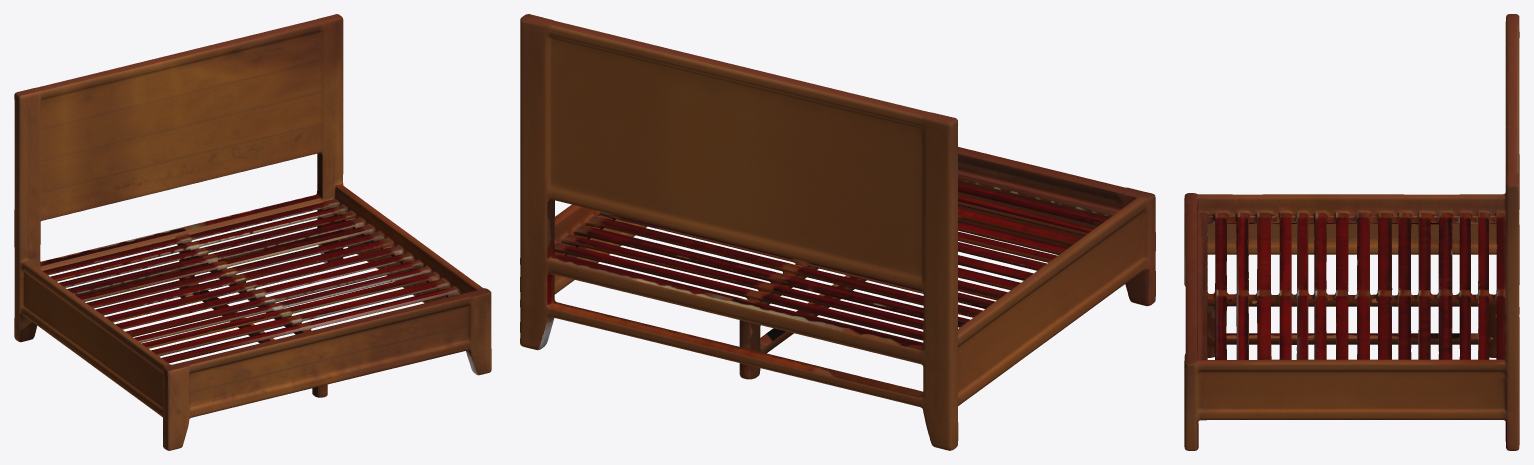
Rendered from bed__bed#3.glb.
3 renders of one model, left to right at view 1: azimuth 30°, elevation 25°; view 2: azimuth 150°, elevation 25°; view 3: azimuth 270°, elevation 25°, orthographic. The views are drawn at different scales.
Visible parts, largest first — view 1: tmp1ifod9ps.ply; view 2: tmp1ifod9ps.ply; view 3: tmp1ifod9ps.ply.
Part boxes in pixels (bbox=[...]): tmp1ifod9ps.ply: bbox=[14, 14, 491, 450]; tmp1ifod9ps.ply: bbox=[520, 14, 1155, 450]; tmp1ifod9ps.ply: bbox=[1184, 14, 1519, 450].
Bounding box in the file's own units: 1.99 × 1.45 × 1.64.
1 material, 1 textured.
